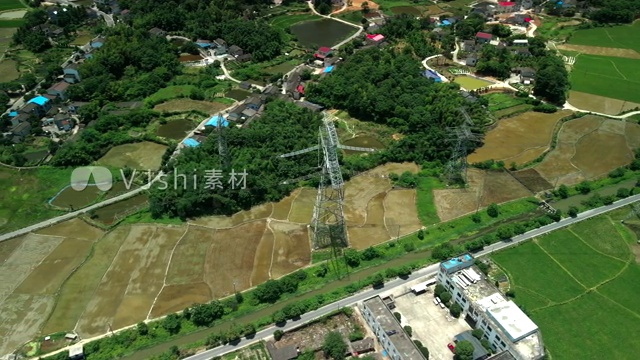tower_body: (299, 111, 355, 252)
tower_foot: (305, 208, 351, 248)
tower_head: (312, 117, 348, 154)
